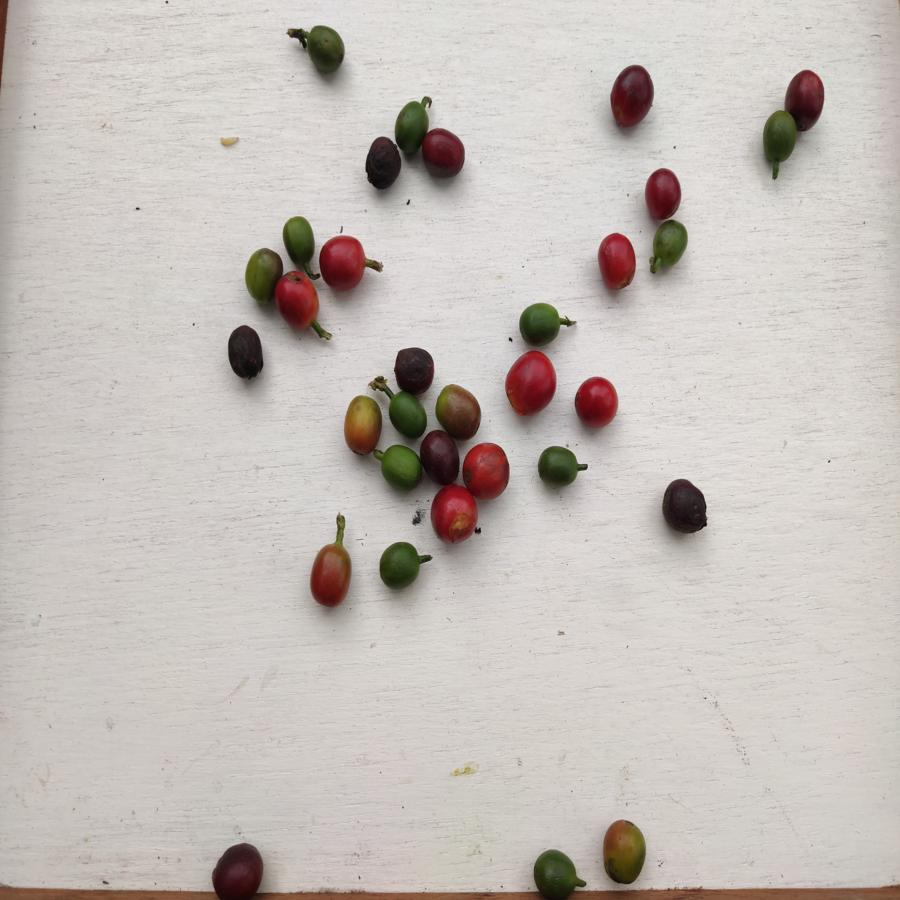Inmaduro: (296, 21, 347, 72), (532, 848, 580, 898), (518, 296, 561, 347), (377, 540, 421, 588), (384, 393, 429, 438), (279, 213, 315, 265), (538, 444, 579, 489), (381, 445, 420, 491), (651, 220, 688, 266), (393, 96, 423, 148), (764, 113, 796, 158)
Maduro: (504, 350, 560, 415), (318, 233, 367, 295), (463, 441, 510, 499), (432, 487, 477, 546), (598, 231, 638, 295), (275, 268, 321, 322), (575, 377, 622, 427)
Pinton: (601, 815, 648, 885), (308, 543, 358, 607), (344, 391, 379, 462), (240, 246, 278, 306), (438, 383, 481, 433)
Sobremaduro: (661, 476, 713, 538), (608, 64, 655, 127), (213, 843, 266, 898), (785, 66, 827, 123), (225, 323, 265, 379), (422, 128, 464, 180), (392, 342, 434, 393), (643, 165, 683, 218), (420, 431, 459, 484), (364, 137, 401, 188)
